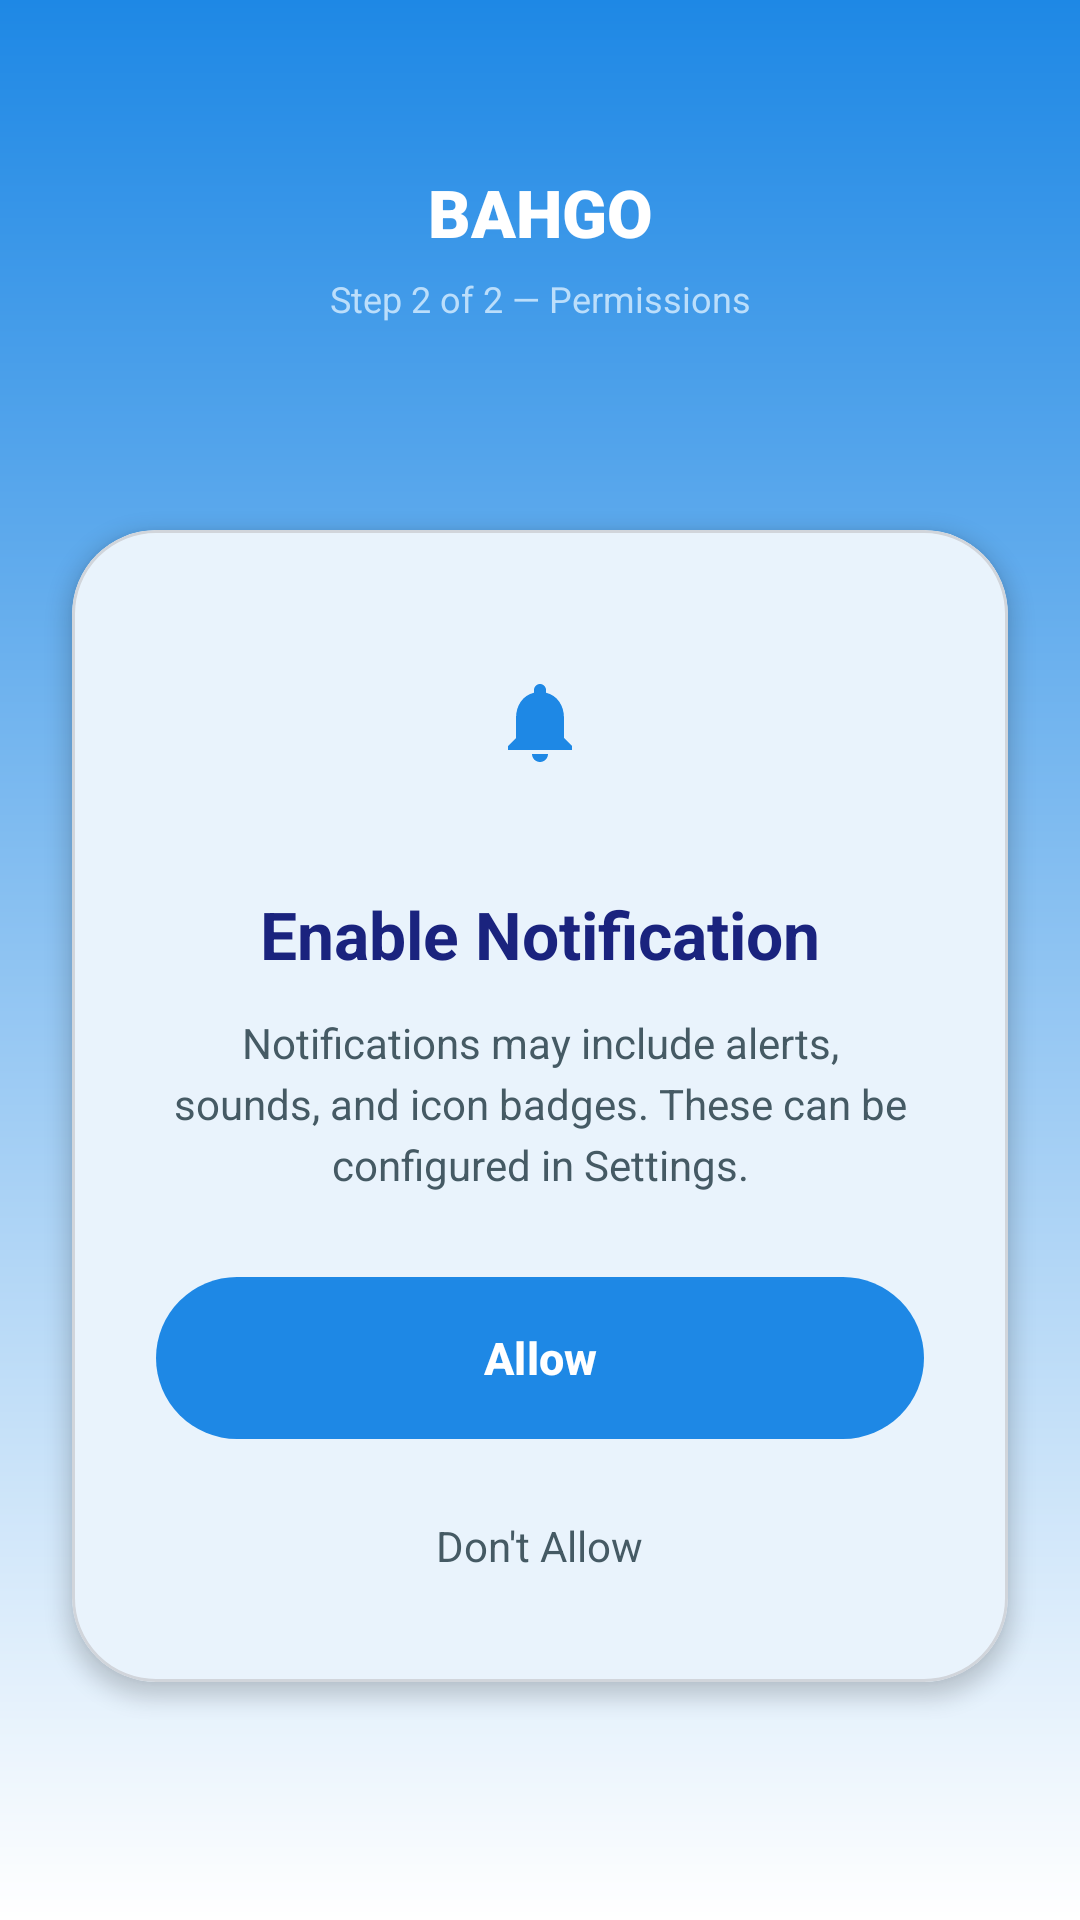

Where to tap for icons on this 1080 x 1920 app screen, as (x,y):
bell: (540,723)
